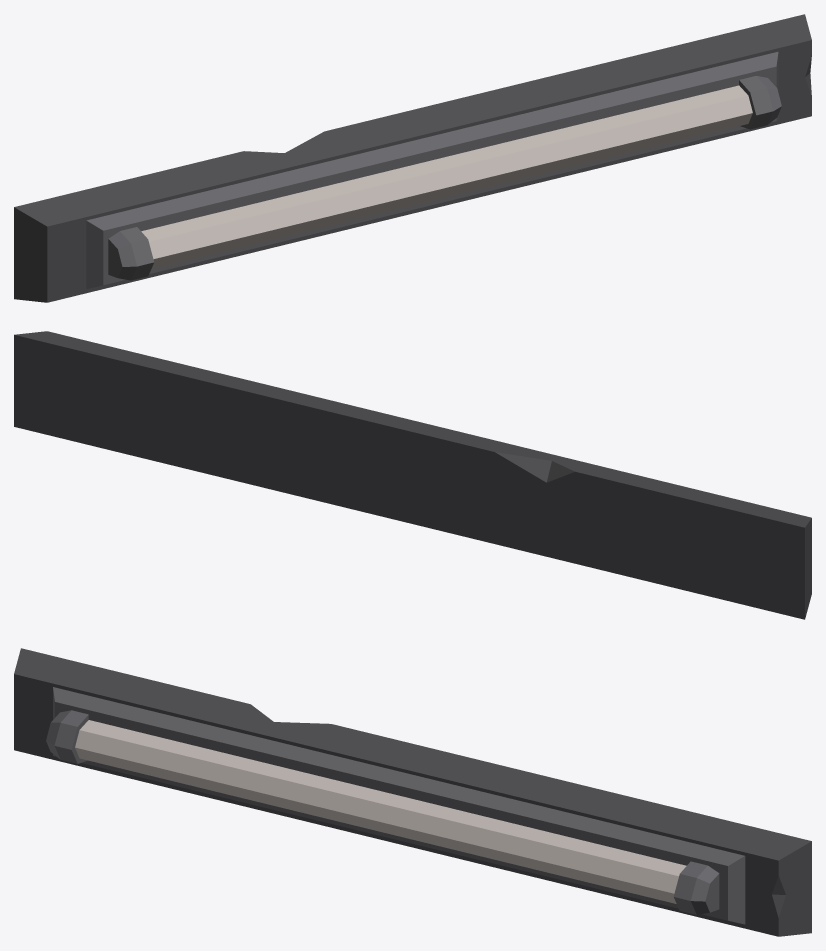
File: SM_Prop_Street_Light_12.fbx
3 renders of one model, top to bottom at view 1: azimuth 30°, elevation 25°; view 2: azimuth 150°, elevation 25°; view 3: azimuth 330°, elevation 25°, orthographic.
Visible parts, largest first — view 1: SM_Prop_Street_Light_12; view 2: SM_Prop_Street_Light_12; view 3: SM_Prop_Street_Light_12.
Boxes of the visible parts, x1=… form: SM_Prop_Street_Light_12: x1=14, y1=14, x2=811, y2=302; SM_Prop_Street_Light_12: x1=14, y1=331, x2=811, y2=619; SM_Prop_Street_Light_12: x1=14, y1=648, x2=811, y2=936.
Bounding box in the file's own units: 167 × 18.59 × 16.41.
